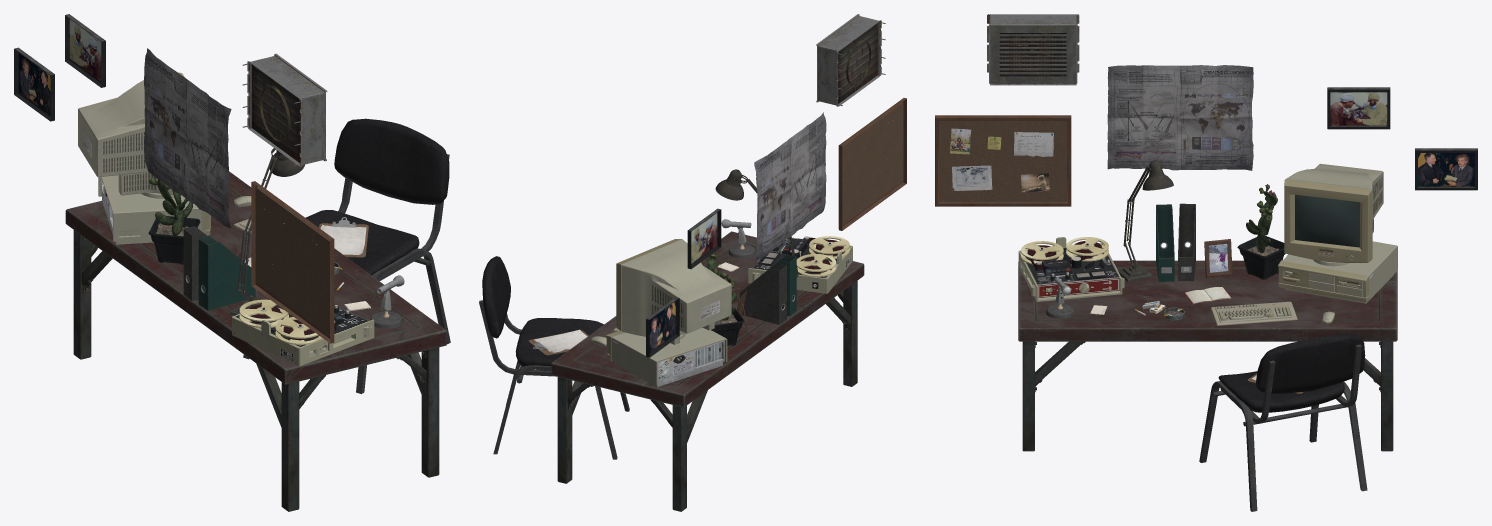
The model's file is office_assets.glb.
The picture shows the model from 3 angles, left to right: view 1: azimuth 30°, elevation 25°; view 2: azimuth 150°, elevation 25°; view 3: azimuth 270°, elevation 25°; orthographic projection. The views are drawn at different scales.
Visible parts, largest first — view 1: Table_Rough_32, Chair_51, Poster_Crumpled_45, PinBoard_24, Vent_44, Monitor_6, TapeRecorder_33, Computer_5, FileBox_Green_8, PhotoFrame1_47, PhotoFrame2_46, FileBox_Black_7 (+5 smaller); view 2: Table_Rough_32, Monitor_6, Poster_Crumpled_45, PinBoard_24, Chair_51, Computer_5, Vent_44, TapeRecorder_33, FileBox_Black_7, PhotoFrame1_47, PhotoFrame2_46, FileBox_Green_8 (+4 smaller); view 3: Table_Rough_32, Poster_Crumpled_45, Chair_51, PinBoard_24, Monitor_6, TapeRecorder_33, Computer_5, PhotoFrame1_47, PhotoFrame2_46, Vent_44, Vent_Cover_Frame_43, Vent_Cover_39 (+11 smaller).
Part boxes in pixels (box(x1,y1,x2,y2)): Table_Rough_32: box(65, 171, 447, 511); Chair_51: box(243, 118, 450, 393); Poster_Crumpled_45: box(144, 48, 231, 228); PinBoard_24: box(251, 181, 334, 343); Vent_44: box(247, 53, 327, 166); Monitor_6: box(78, 72, 184, 198); TapeRecorder_33: box(232, 299, 374, 366); Computer_5: box(98, 175, 210, 244); FileBox_Green_8: box(198, 235, 255, 310); PhotoFrame1_47: box(65, 14, 105, 87); PhotoFrame2_46: box(14, 47, 54, 121); FileBox_Black_7: box(183, 226, 206, 300); Table_Rough_32: box(551, 231, 864, 511); Monitor_6: box(616, 239, 731, 344); Poster_Crumpled_45: box(754, 112, 826, 260); PinBoard_24: box(838, 98, 906, 230); Chair_51: box(479, 256, 629, 459); Computer_5: box(605, 327, 727, 386); Vent_44: box(816, 14, 881, 106); TapeRecorder_33: box(748, 236, 852, 293); FileBox_Black_7: box(740, 263, 786, 324); PhotoFrame1_47: box(687, 208, 721, 269); PhotoFrame2_46: box(646, 297, 679, 357); FileBox_Green_8: box(751, 254, 796, 316); Table_Rough_32: box(1018, 260, 1397, 451); Poster_Crumpled_45: box(1107, 65, 1253, 170); Chair_51: box(1199, 333, 1367, 511); PinBoard_24: box(935, 115, 1071, 206); Monitor_6: box(1284, 163, 1383, 266); TapeRecorder_33: box(1018, 237, 1124, 301); Computer_5: box(1278, 241, 1397, 303); PhotoFrame1_47: box(1327, 87, 1390, 129); PhotoFrame2_46: box(1415, 148, 1477, 190); Vent_44: box(987, 14, 1079, 85); Vent_Cover_Frame_43: box(990, 26, 1075, 83); Vent_Cover_39: box(999, 34, 1066, 74).
Size of the model in its own units: 1.72 by 2.18 by 2.89.
14 materials, 14 textured.
